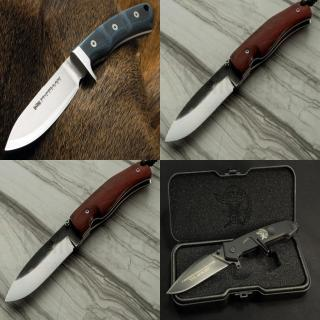knife: (2, 50, 88, 153), (1, 212, 89, 306), (162, 52, 248, 146), (164, 243, 234, 296)
